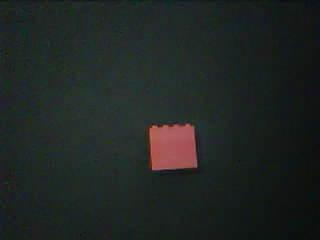lego: (147, 123, 199, 171)
